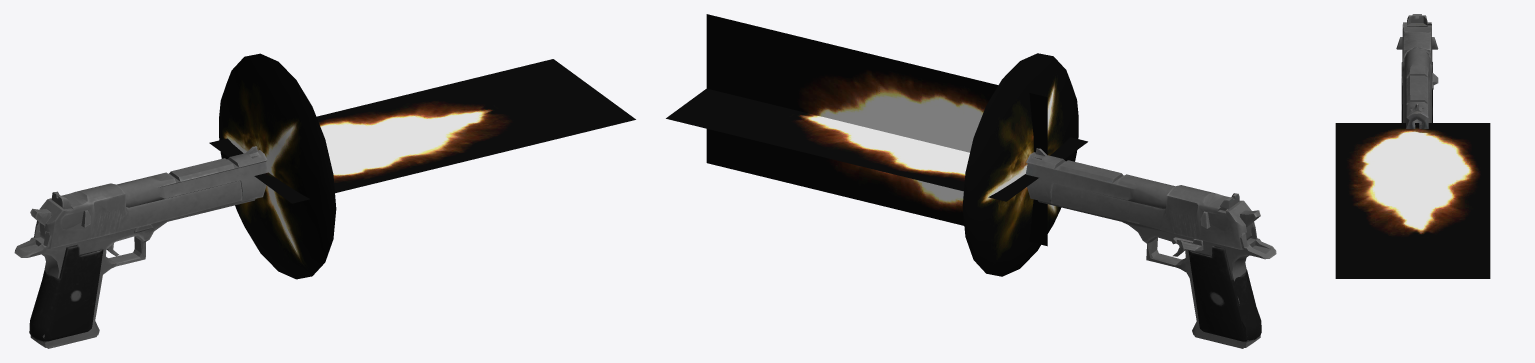
File: Deagle_1.glb
The picture shows the model from 3 angles, left to right: view 1: azimuth 30°, elevation 25°; view 2: azimuth 150°, elevation 25°; view 3: azimuth 270°, elevation 25°; orthographic projection. The views are drawn at different scales.
Parts seen in each view (by area): view 1: MuzzleFlash, Deagle_Decimated; view 2: MuzzleFlash, Deagle_Decimated; view 3: MuzzleFlash, Deagle_Decimated.
Part boxes in pixels (x1,y1,x2,y2): MuzzleFlash: (209, 53, 635, 279); Deagle_Decimated: (14, 146, 267, 348); MuzzleFlash: (666, 14, 1087, 276); Deagle_Decimated: (1025, 148, 1276, 348); MuzzleFlash: (1335, 123, 1490, 278); Deagle_Decimated: (1396, 14, 1438, 128).
Bounding box in the file's own units: 0.714 × 0.27 × 0.2492.
2 materials, 2 textured.
